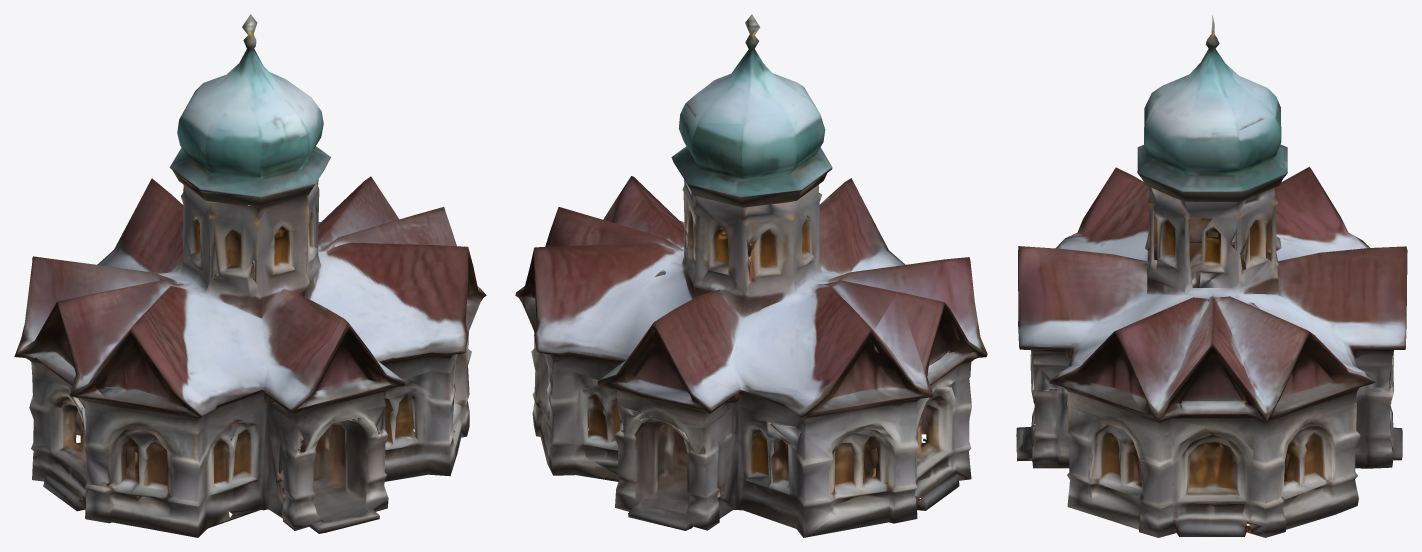
Rendered from winter-pavilion.glb.
3 renders of one model, left to right at view 1: azimuth 30°, elevation 25°; view 2: azimuth 150°, elevation 25°; view 3: azimuth 270°, elevation 25°, orthographic.
Parts seen in each view (by area): view 1: Russian winter pavilion; view 2: Russian winter pavilion; view 3: Russian winter pavilion.
Boxes of the visible parts, x1=… form: Russian winter pavilion: x1=14, y1=14, x2=486, y2=537; Russian winter pavilion: x1=515, y1=14, x2=987, y2=537; Russian winter pavilion: x1=1016, y1=15, x2=1407, y2=537.
Size of the model in its own units: 0.5472 by 0.5507 by 0.4505.
Materials: 1 (1 with a texture image).
